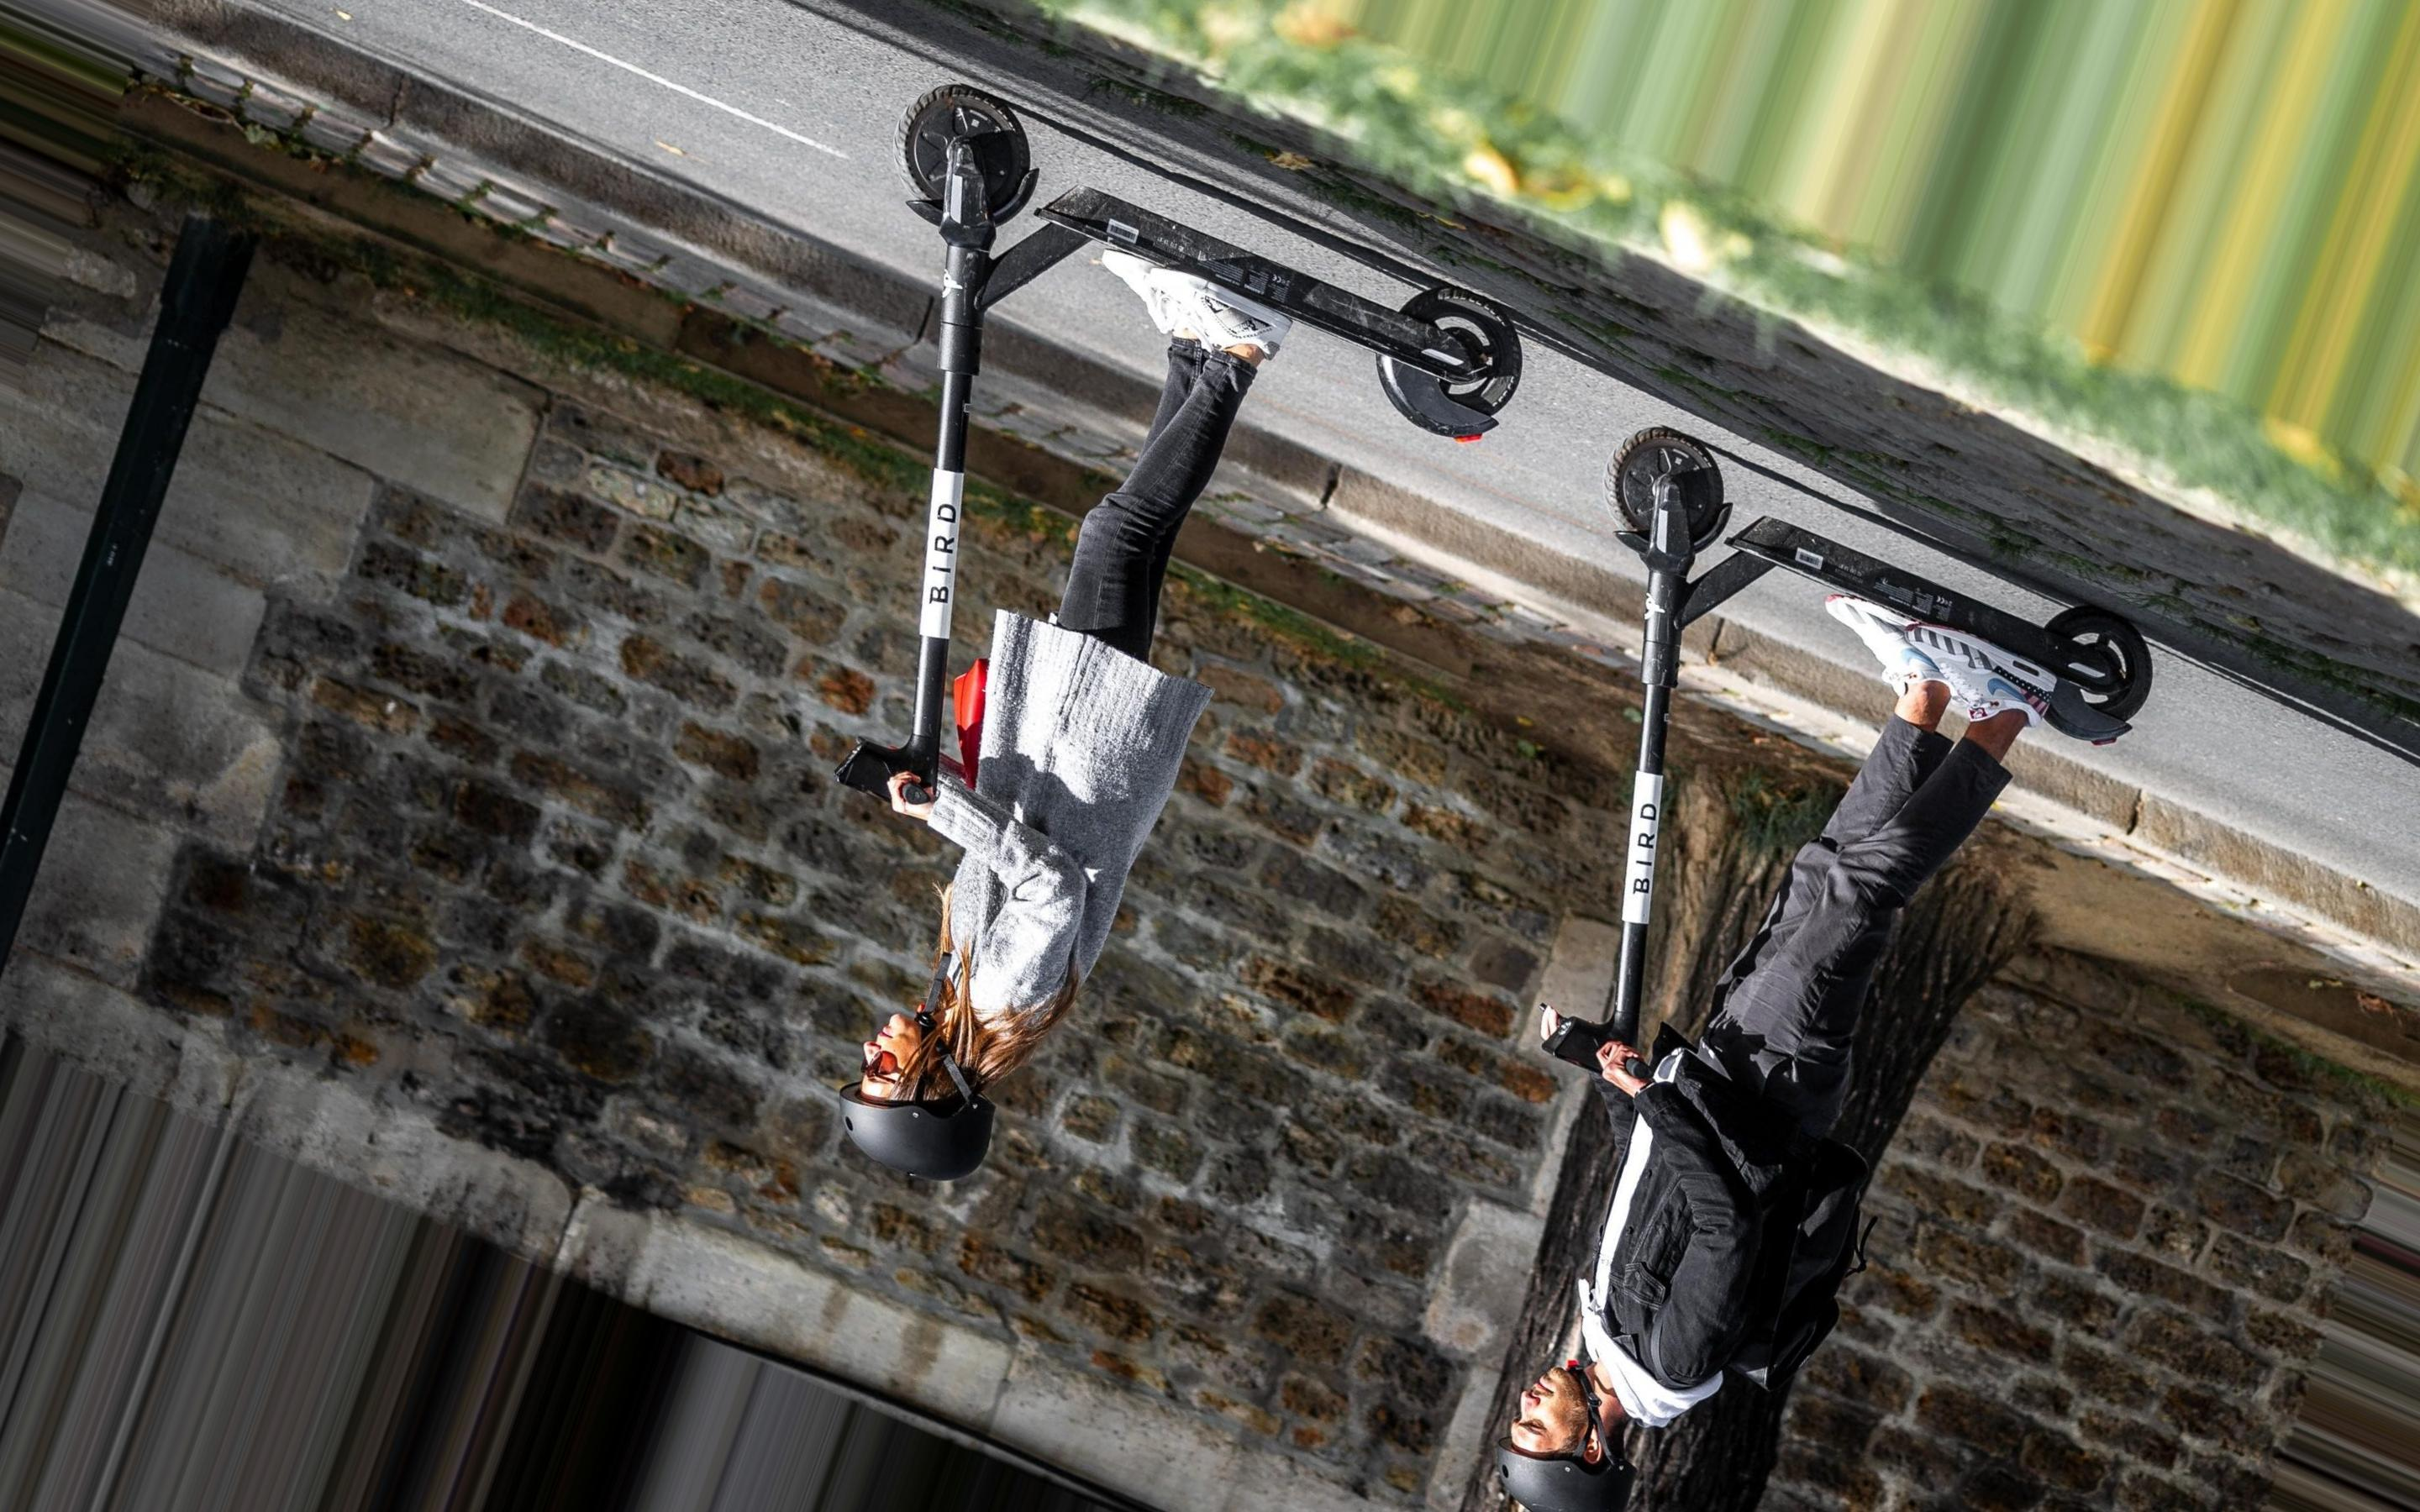scooter: (831, 71, 1526, 807), (1537, 427, 2159, 1089)
with helmet: (835, 1007, 988, 1178), (1498, 1367, 1638, 1512)
